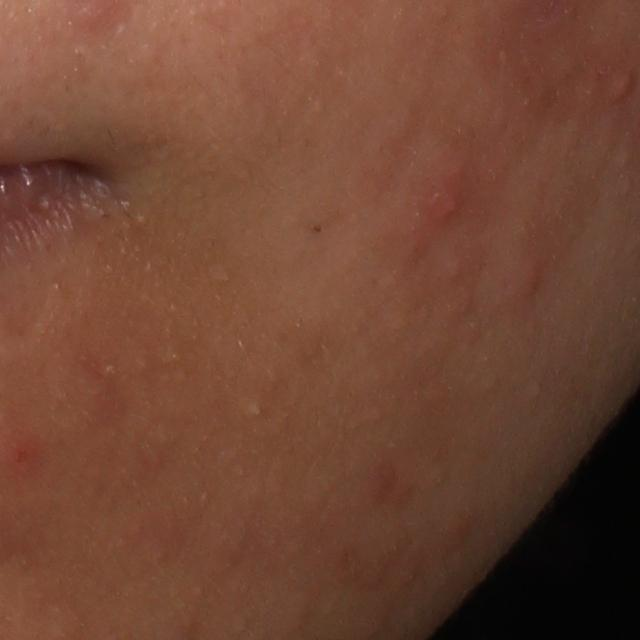comedo: (245, 397, 266, 422)
papule: (510, 252, 549, 307), (430, 170, 466, 225), (607, 67, 639, 104)
